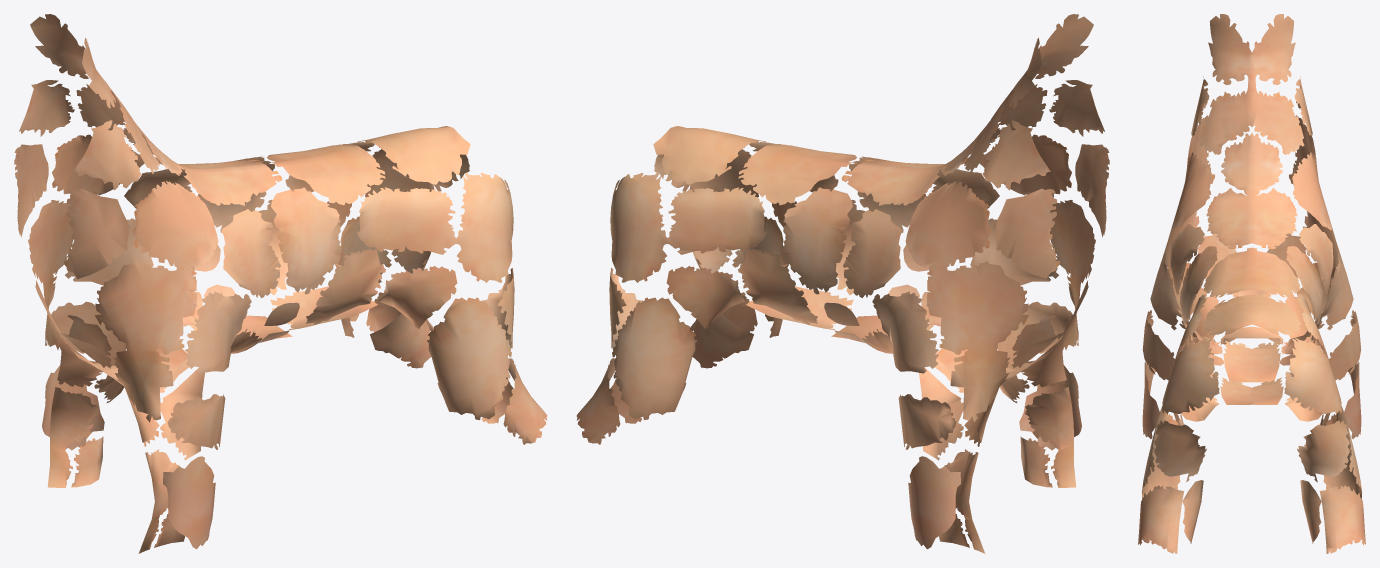
Rendered from Dog.paint.fbx.
3 views of the same model, side by side, from view 1: azimuth 30°, elevation 25°; view 2: azimuth 150°, elevation 25°; view 3: azimuth 270°, elevation 25° (orthographic). The views are drawn at different scales.
Visible parts, largest first — view 1: Dog new_Body Paint.001; view 2: Dog new_Body Paint.001; view 3: Dog new_Body Paint.001.
Boxes of the visible parts, left/top/right/bottom form: Dog new_Body Paint.001: left=14, top=14, right=547, bottom=553; Dog new_Body Paint.001: left=576, top=14, right=1109, bottom=553; Dog new_Body Paint.001: left=1138, top=14, right=1365, bottom=553.
Size of the model in its own units: 210 by 222 by 113.
